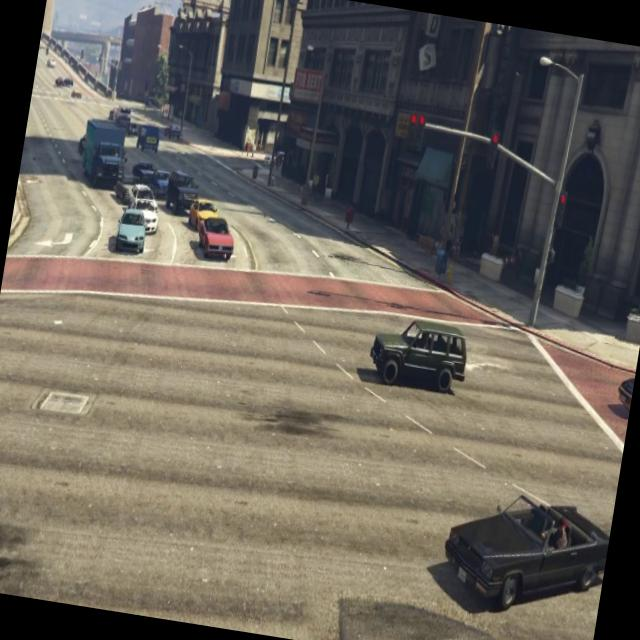Red-Signal: (397, 96, 435, 161), (481, 122, 511, 174), (550, 179, 578, 233)
